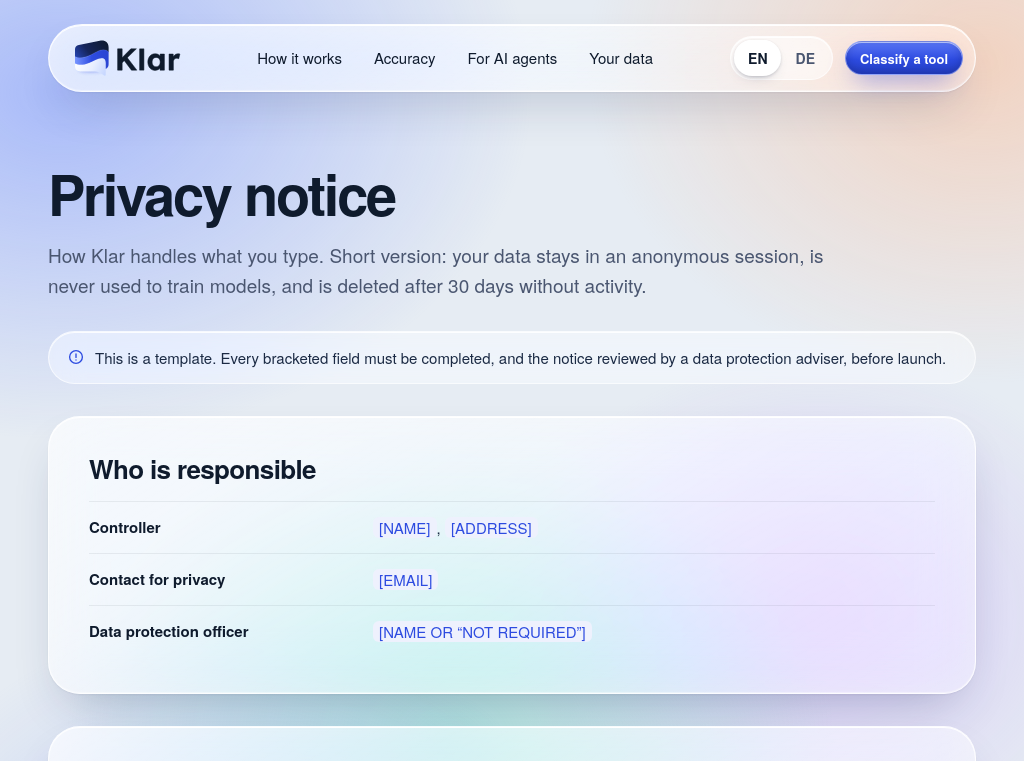
Test: SiteNav › stays on a site page when the language changes
Expected: the heading "Privacy notice" is shown, [48, 153, 395, 233]
Step 1. Click the button named "Deutsch" → [805, 58], box [782, 40, 829, 76]
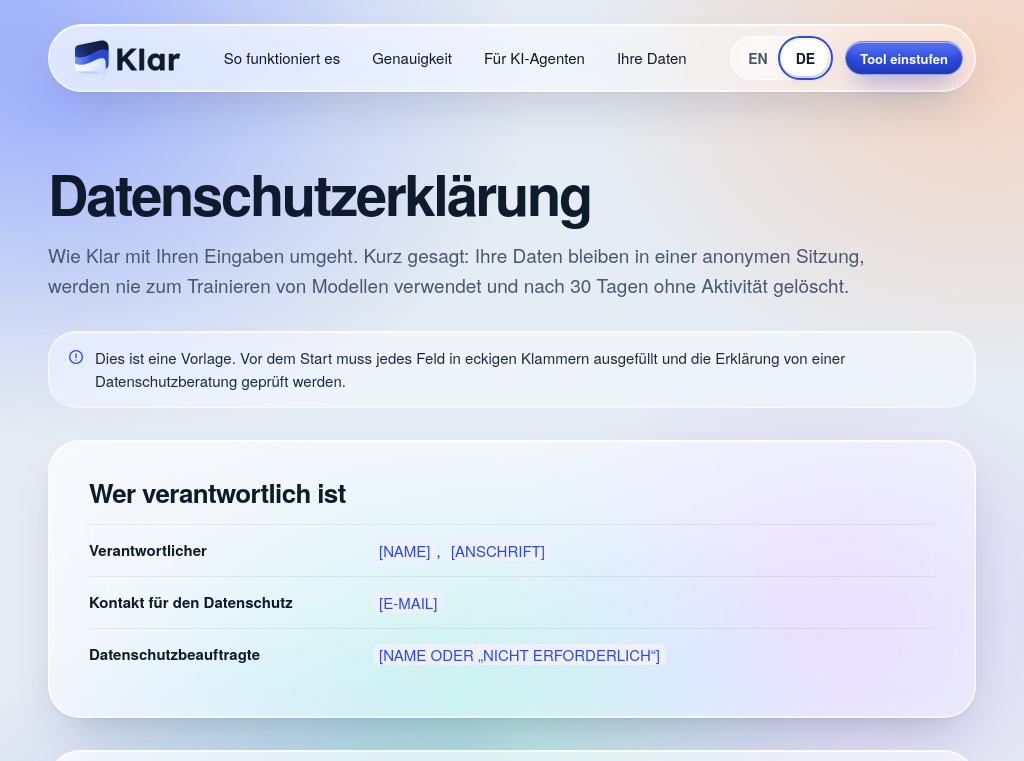
Result: the heading "Datenschutzerklärung" is shown at [48, 153, 591, 233]
